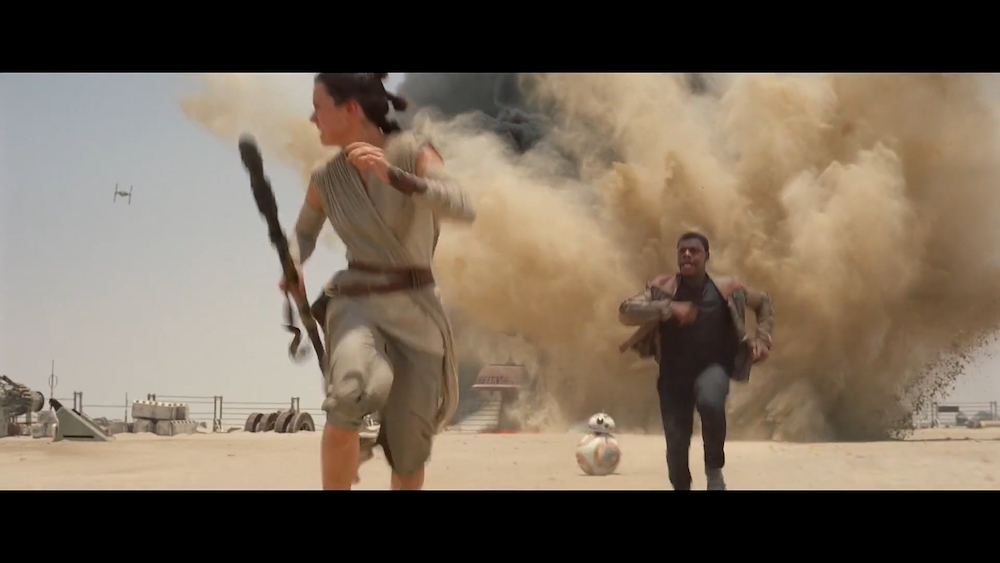Tie Fighter: (113, 183, 134, 206)
